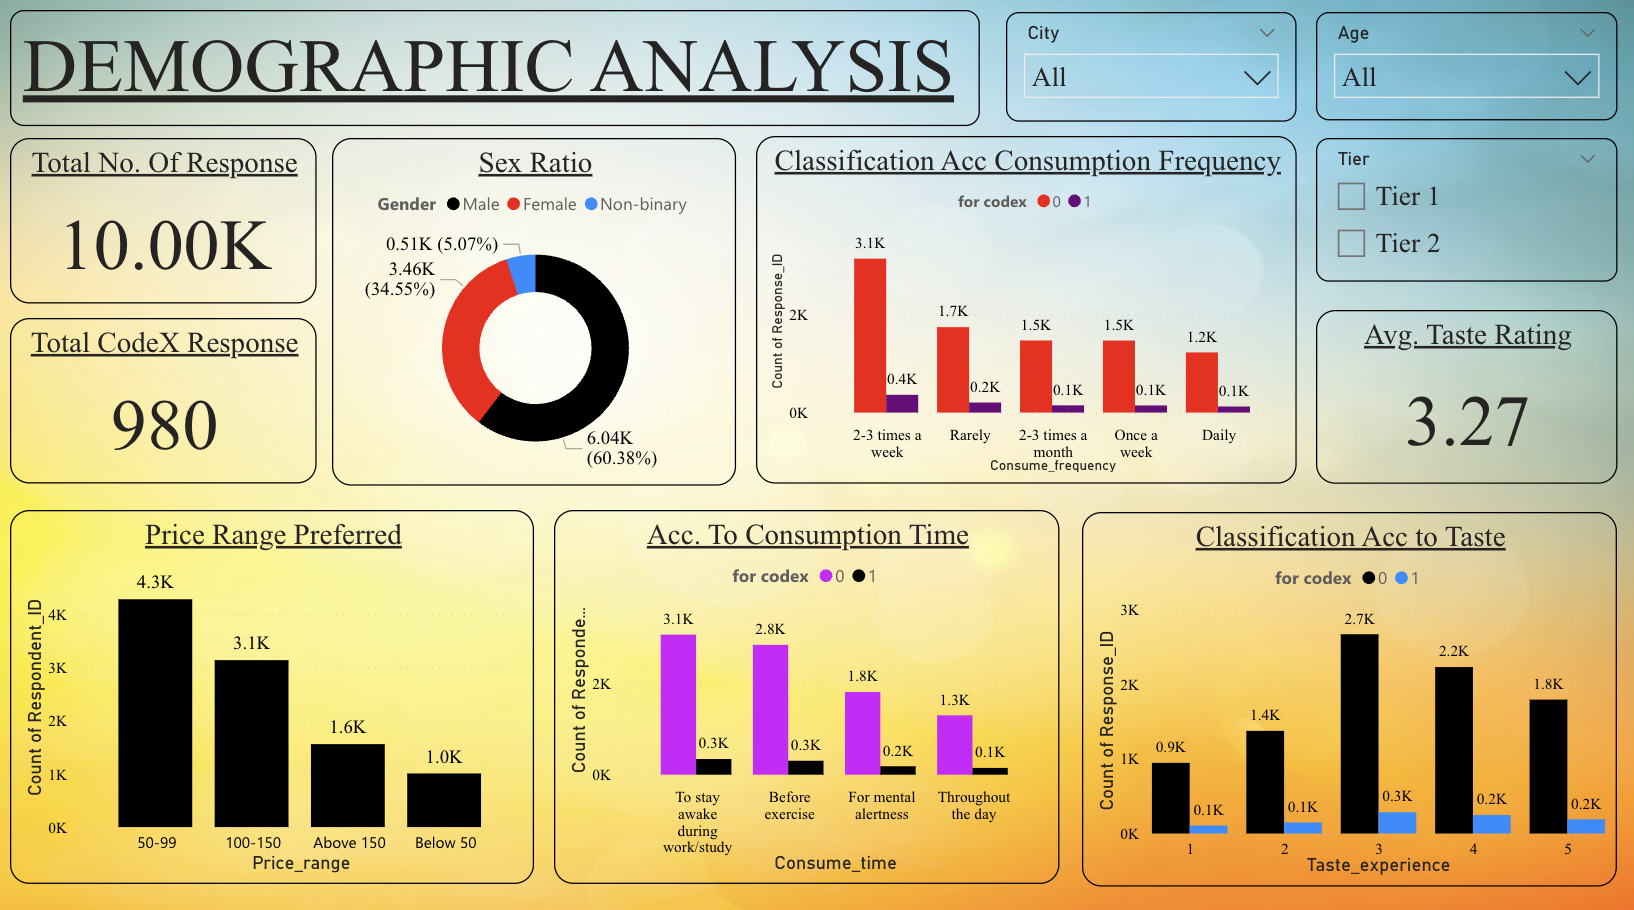

What the dashboard file says about the page in this screenshot:
{"tool":"powerbi","page":{"name":"demographic ","canvas":[1280,720],"ordinal":1},"visuals":[{"type":"textbox","box":[10.9,10.9,755.9,90.6],"z":0},{"type":"card","title":"Total No. Of Response","fields":{"Values":["CountNonNull(fact_survey_responses.Respondent_ID)"]},"box":[10.6,110,239.1,129.1],"z":1000},{"type":"slicer","fields":{"Values":["dim_cities.City"]},"box":[787.7,13,226.6,85.5],"z":2000},{"type":"card","title":"Total CodeX Response","fields":{"Values":["CountNonNull(fact_survey_responses.Respondent_ID)"]},"box":[10.6,251.8,239.1,129.1],"z":3000},{"type":"donutChart","title":"Sex Ratio","fields":{"Category":["dim_repondents.Gender"],"Y":["CountNonNull(dim_repondents.Respondent_ID)"]},"box":[262.3,110,315.2,270.8],"z":4000},{"type":"slicer","fields":{"Values":["dim_repondents.Age"]},"box":[1028.2,12.7,234.8,84.6],"z":5000},{"type":"clusteredColumnChart","title":"Price Range Preferred","fields":{"Category":["fact_survey_responses.Price_range"],"Y":["CountNonNull(fact_survey_responses.Respondent_ID)"]},"box":[11.1,401.3,408.7,291.7],"z":6000},{"type":"clusteredColumnChart","title":"Acc. To Consumption Time","fields":{"Y":["CountNonNull(dim_repondents.Respondent_ID)"],"Category":["fact_survey_responses.Consume_time"],"Series":["fact_survey_responses.for codex"]},"box":[434.7,401.3,393.8,291.7],"z":7000},{"type":"clusteredColumnChart","title":"Classification Acc to Taste ","fields":{"Y":["CountNonNull(fact_survey_responses.Response_ID)"],"Category":["fact_survey_responses.Taste_experience"],"Series":["fact_survey_responses.for codex"]},"box":[846.3,402,416.8,292],"z":8000},{"type":"slicer","fields":{"Values":["dim_cities.Tier"]},"box":[1028.2,110,234.8,112.1],"z":9000},{"type":"clusteredColumnChart","title":"Classification Acc Consumption Frequency","fields":{"Y":["CountNonNull(fact_survey_responses.Response_ID)"],"Series":["fact_survey_responses.for codex"],"Category":["fact_survey_responses.Consume_frequency"]},"box":[592.6,109.6,421.7,271.2],"z":10000},{"type":"card","title":"Avg. Taste Rating","fields":{"Values":["Avg(fact_survey_responses.Taste_experience)"]},"box":[1028.2,245.4,234.8,135.4],"z":11000}]}

Visuals, with their boxes in screenshot pixels (x1, y1, x2, y2), scaled from the page's 1280x720 canvas onto the 1634x910 screenshot:
textbox: 14,14,979,128
"Total No. Of Response" card: 14,139,319,302
slicer - dim_cities.City: 1006,16,1295,124
"Total CodeX Response" card: 14,318,319,481
"Sex Ratio" donutChart: 335,139,737,481
slicer - dim_repondents.Age: 1313,16,1612,123
"Price Range Preferred" clusteredColumnChart: 14,507,536,876
"Acc. To Consumption Time" clusteredColumnChart: 555,507,1058,876
"Classification Acc to Taste " clusteredColumnChart: 1080,508,1612,877
slicer - dim_cities.Tier: 1313,139,1612,281
"Classification Acc Consumption Frequency" clusteredColumnChart: 756,139,1295,481
"Avg. Taste Rating" card: 1313,310,1612,481
